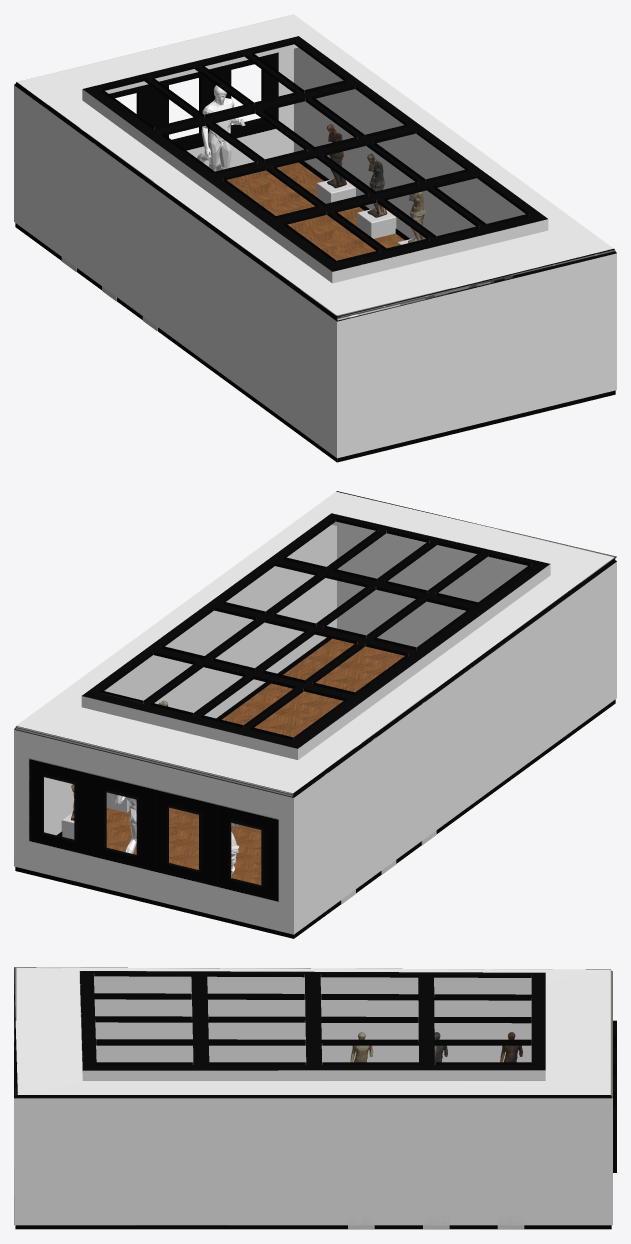
3 renders of one model, top to bottom at view 1: azimuth 30°, elevation 25°; view 2: azimuth 150°, elevation 25°; view 3: azimuth 270°, elevation 25°, orthographic. The views are drawn at different scales.
Parts seen in each view (by area): view 1: PIECE, 4_MAN_LR_SMOOTHED.004, socle.003, socle, 4_VENUS_LR_SMOOTHED.003; view 2: PIECE; view 3: PIECE, 4_MAN_LR_SMOOTHED.003, 4_MAN_LR_SMOOTHED.007.
Part boxes in pixels (x1,y1,x2,y2): PIECE: (14,14,616,462); 4_MAN_LR_SMOOTHED.004: (197,85,245,171); socle.003: (357,209,396,238); socle: (316,179,355,203); 4_VENUS_LR_SMOOTHED.003: (367,153,387,217); PIECE: (14,491,616,938); PIECE: (14,967,616,1229); 4_MAN_LR_SMOOTHED.003: (350,1032,373,1062); 4_MAN_LR_SMOOTHED.007: (500,1032,522,1062).
Size of the model in its own units: 600 by 329 by 1208.
Materials: 9 (7 with a texture image).
